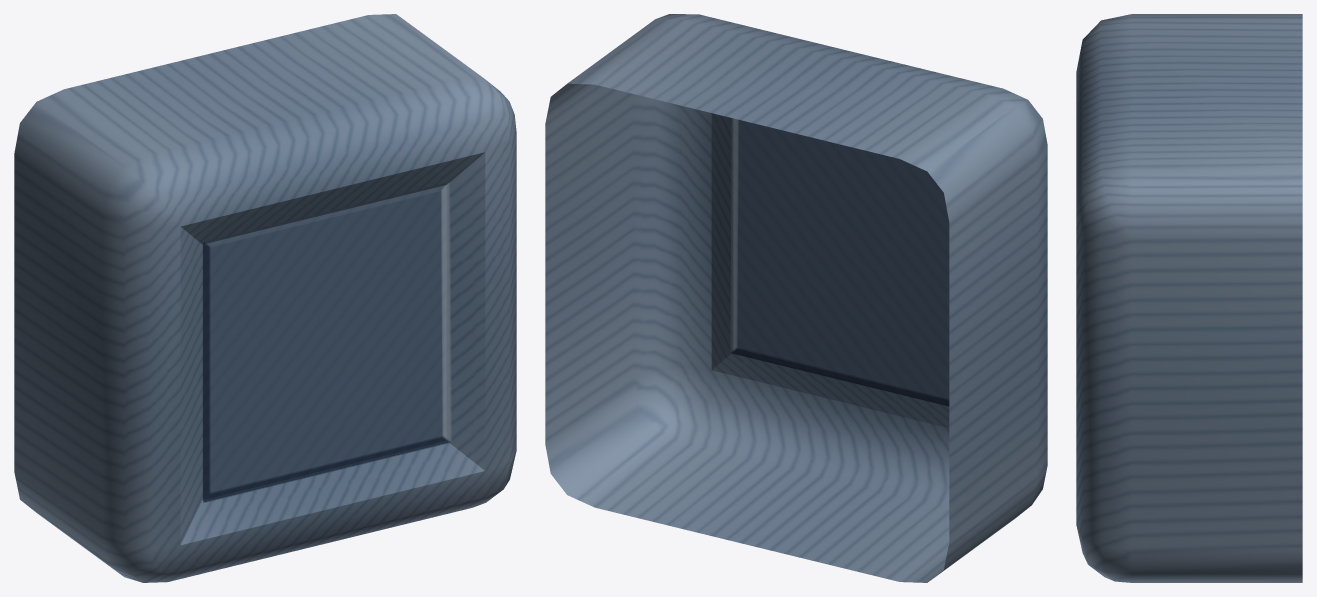
File: Metal_Block.FBX
3 renders of one model, left to right at view 1: azimuth 30°, elevation 25°; view 2: azimuth 150°, elevation 25°; view 3: azimuth 270°, elevation 25°, orthographic. The views are drawn at different scales.
Visible parts, largest first — view 1: Object1683; view 2: Object1683; view 3: Object1683.
Part boxes in pixels (bbox=[...]): Object1683: bbox=[14, 14, 516, 582]; Object1683: bbox=[545, 14, 1047, 582]; Object1683: bbox=[1076, 14, 1302, 582].
Bounding box in the file's own units: 19.76 × 19.76 × 9.88.
Materials: 1 (1 with a texture image).
